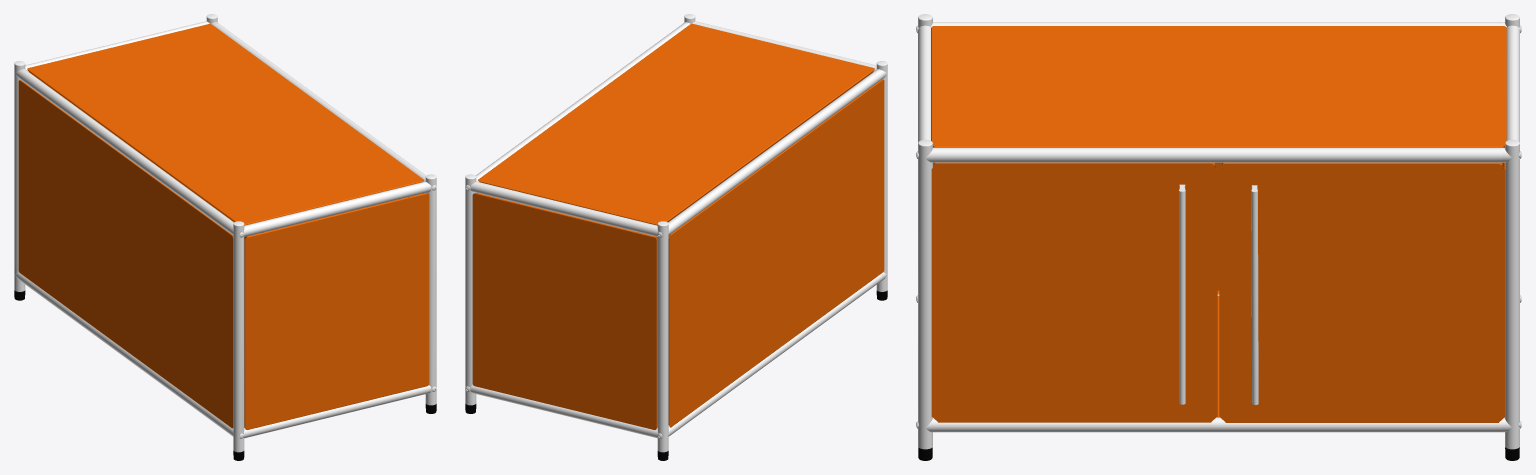
File: 80x40x40-1-6-Orange_optimized_optimized.glb
3 views of the same model, side by side, from view 1: azimuth 30°, elevation 25°; view 2: azimuth 150°, elevation 25°; view 3: azimuth 270°, elevation 25° (orthographic). The views are drawn at different scales.
Visible parts, largest first — view 1: 直角鐵板-80x40-5 - 零件, new-上塞-1 - 零件; view 2: 直角鐵板-80x40-5 - 零件, new-上塞-1 - 零件; view 3: 直角鐵板-80x40-5 - 零件, new-上塞-1 - 零件.
Part boxes in pixels (x1,y1,x2,y2): 直角鐵板-80x40-5 - 零件: (18, 23, 429, 429); new-上塞-1 - 零件: (14, 14, 436, 452); 直角鐵板-80x40-5 - 零件: (472, 23, 884, 429); new-上塞-1 - 零件: (465, 14, 887, 452); 直角鐵板-80x40-5 - 零件: (931, 26, 1506, 422); new-上塞-1 - 零件: (916, 14, 1521, 449).
Bounding box in the file's own units: 0.4203 × 0.4453 × 0.7732.
